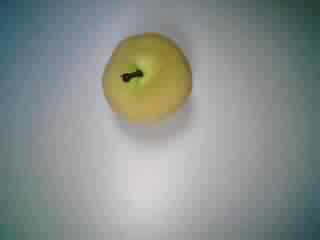pear: (90, 26, 201, 136)
